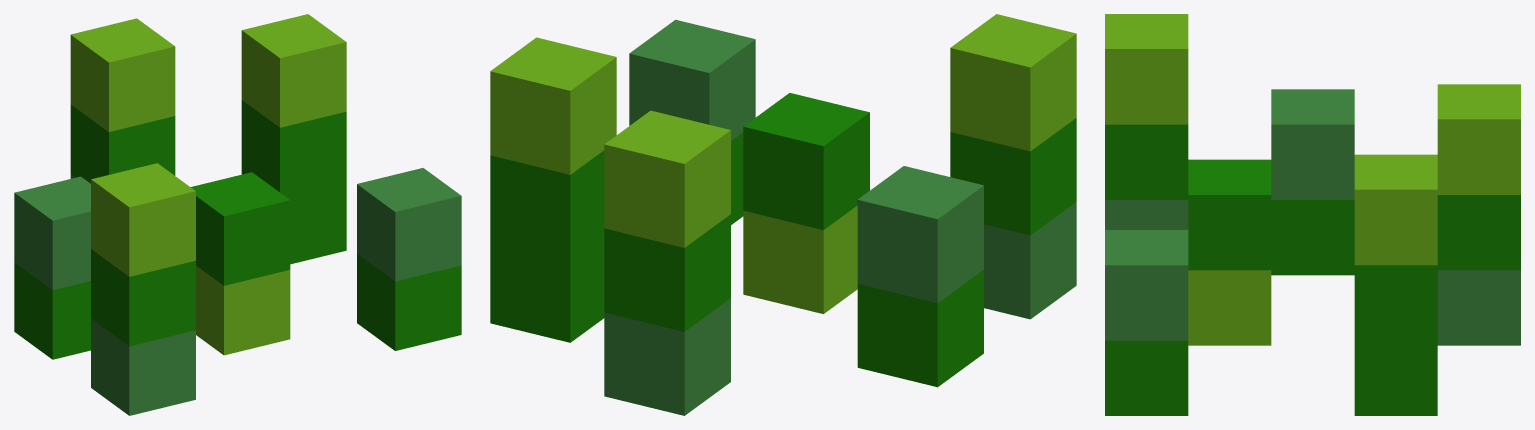
File: Medieval Assets-335-Vegetation - Grass - Highlight - Variant3.obj
3 views of the same model, side by side, from view 1: azimuth 30°, elevation 25°; view 2: azimuth 150°, elevation 25°; view 3: azimuth 270°, elevation 25° (orthographic). The views are drawn at different scales.
Parts seen in each view (by area): view 1: Vegetation - Grass - Highlight - Variant3; view 2: Vegetation - Grass - Highlight - Variant3; view 3: Vegetation - Grass - Highlight - Variant3.
Part boxes in pixels (x1,y1,x2,y2): Vegetation - Grass - Highlight - Variant3: [14, 14, 461, 415]; Vegetation - Grass - Highlight - Variant3: [490, 14, 1076, 415]; Vegetation - Grass - Highlight - Variant3: [1105, 14, 1520, 415].
Size of the model in its own units: 0.5 by 0.3 by 0.5.
Materials: 1 (1 with a texture image).
